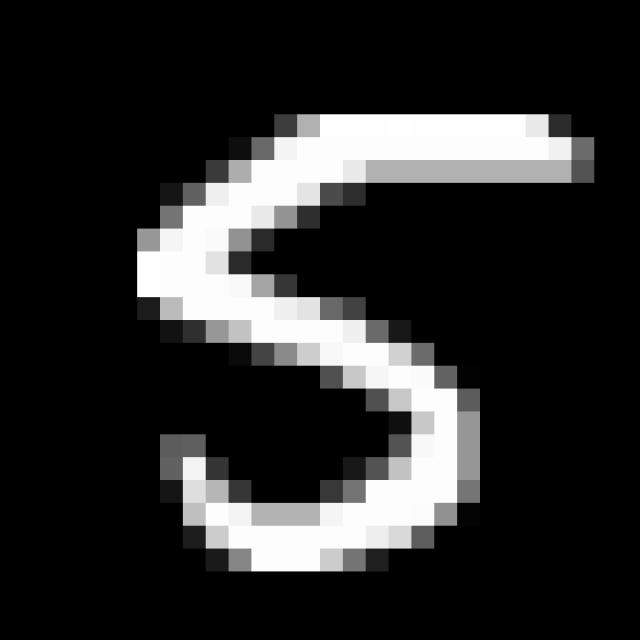five -5-: (121, 101, 600, 597)
